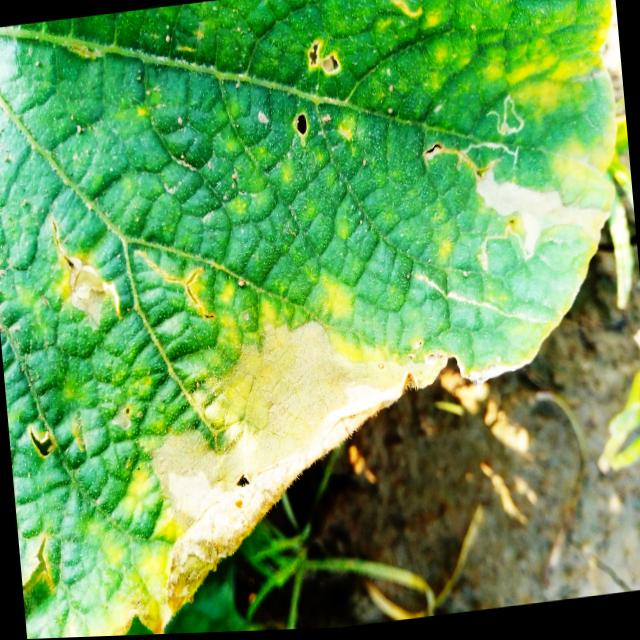Gummy-Stem-Blight: (109, 318, 450, 636)
